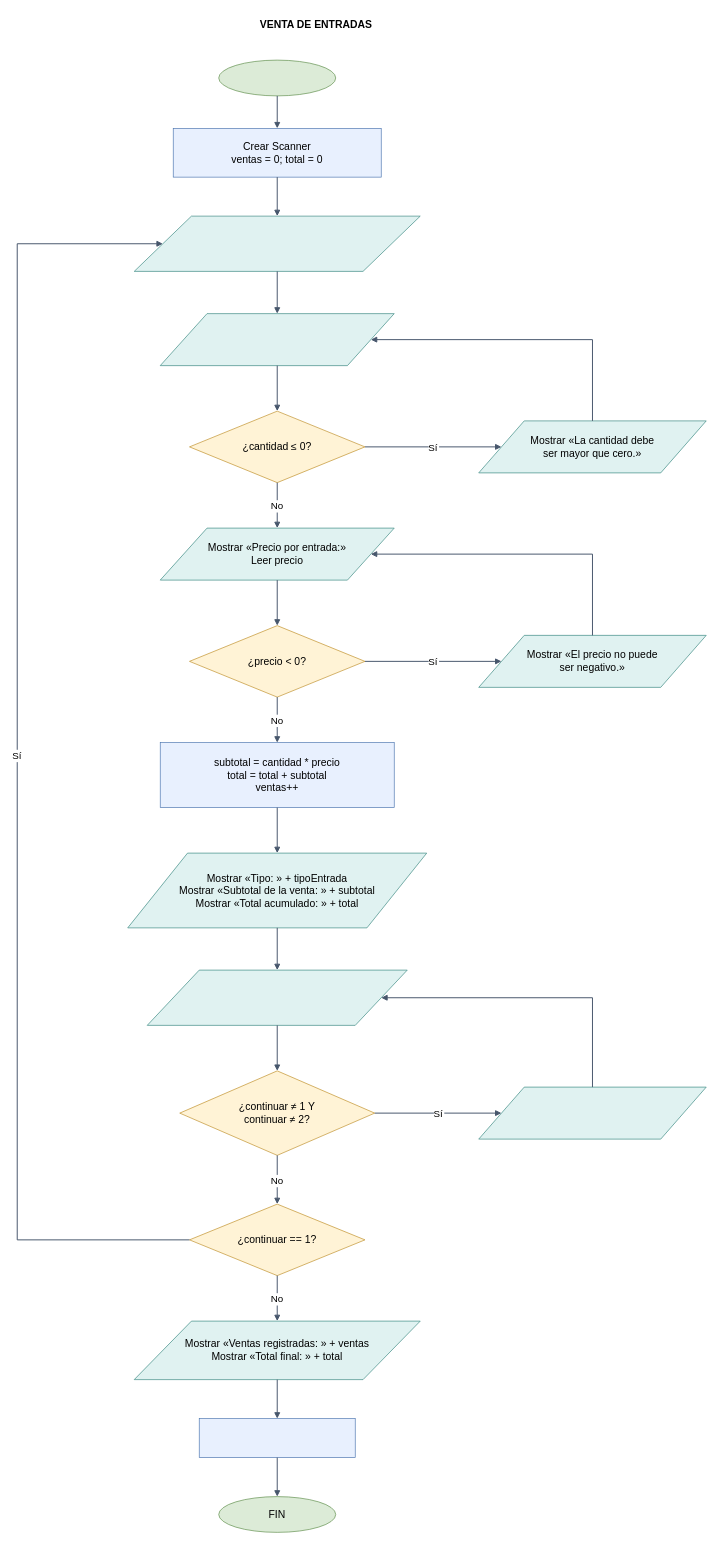
The diagram is 718 pixels wide and 1544 high, and some of its shapes have lost their labels. The shapes that lost their labels are listed below. From the top down, each one's centre as x and y in pixels, then its label:
the point at 277,77: INICIO
the point at 277,243: Mostrar «Tipo de entrada (una palabra):» Leer tipoEntrada
the point at 277,339: Mostrar «Cantidad de entradas:» Leer cantidad
the point at 277,997: Mostrar «Otra venta? 1. Si 2. No» Leer continuar
the point at 592,1112: Mostrar «Opcion invalida. Elija 1 o 2.»
the point at 277,1438: scanner.close()
